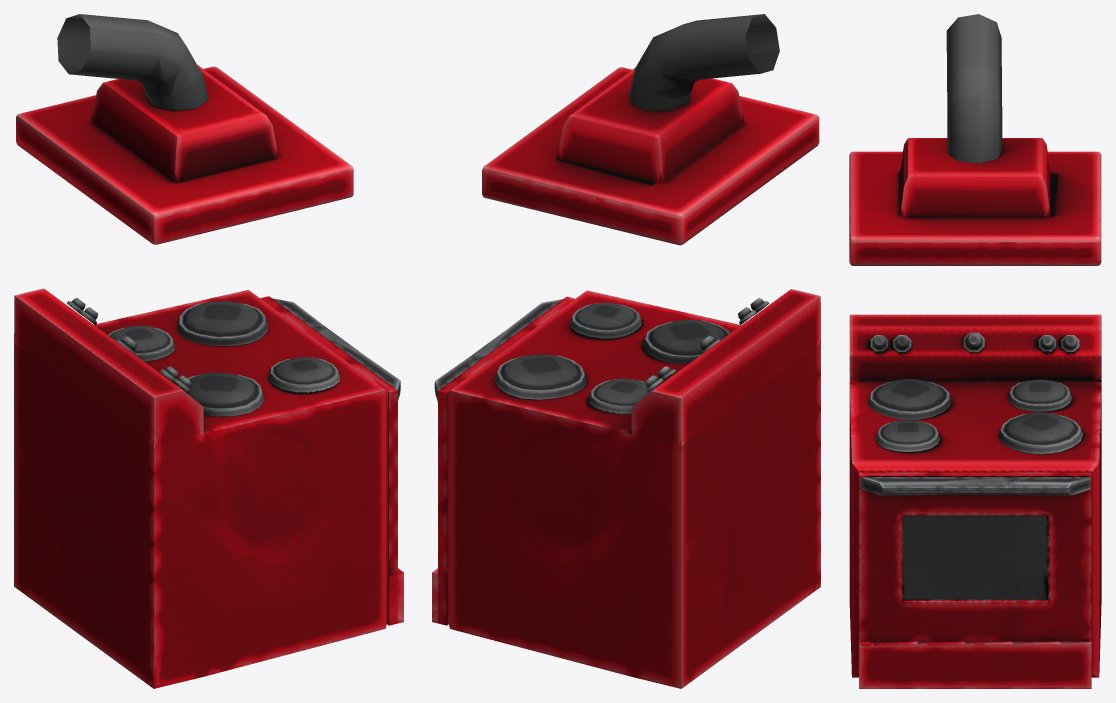
File: RE_RKitchenStove.FBX
The picture shows the model from 3 angles, left to right: view 1: azimuth 30°, elevation 25°; view 2: azimuth 150°, elevation 25°; view 3: azimuth 270°, elevation 25°; orthographic projection. The views are drawn at different scales.
Parts seen in each view (by area): view 1: RE_RKitchenStove; view 2: RE_RKitchenStove; view 3: RE_RKitchenStove.
Boxes of the visible parts, x1=… form: RE_RKitchenStove: x1=14, y1=14, x2=403, y2=688; RE_RKitchenStove: x1=432, y1=14, x2=820, y2=688; RE_RKitchenStove: x1=849, y1=14, x2=1101, y2=688.
Size of the model in its own units: 56.33 by 118 by 48.05.
Materials: 4 (4 with a texture image).
